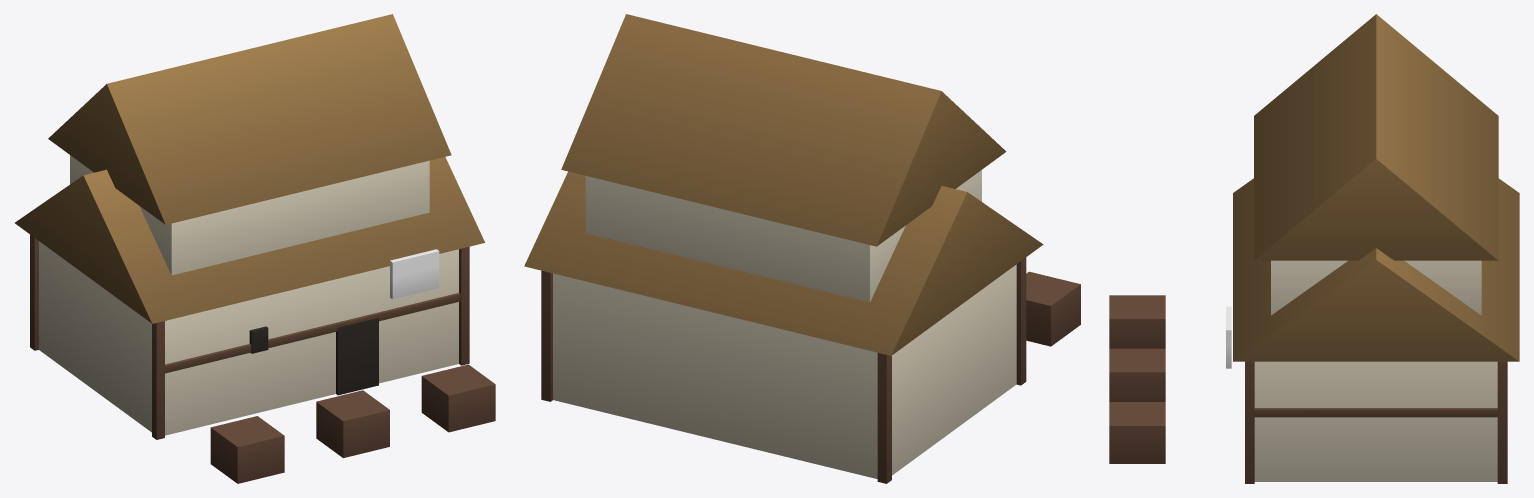
The model's file is INN_NE.glb.
3 renders of one model, left to right at view 1: azimuth 30°, elevation 25°; view 2: azimuth 150°, elevation 25°; view 3: azimuth 270°, elevation 25°, orthographic. The views are drawn at different scales.
Visible parts, largest first — view 1: Body; view 2: Body; view 3: Body.
Boxes of the visible parts, x1,y1,x2,y2 form: Body: (15,14,495,483); Body: (524,14,1080,483); Body: (1109,14,1519,483).
Bounding box in the file's own units: 2.84 × 2.5 × 2.92.
1 material, 1 textured.
